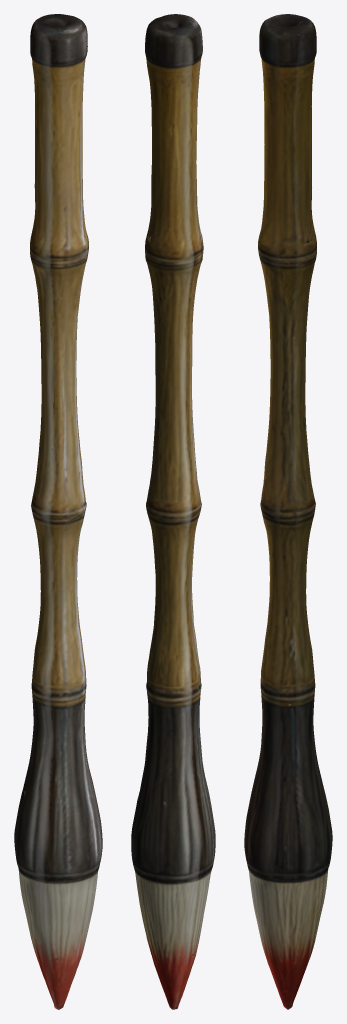
The model's file is Pen.fbx.
3 renders of one model, left to right at view 1: azimuth 90°, elevation 25°; view 2: azimuth 150°, elevation 25°; view 3: azimuth 270°, elevation 25°, orthographic.
Parts seen in each view (by area): view 1: material_0; view 2: material_0; view 3: material_0.
Boxes of the visible parts, bbox=[...] form: material_0: bbox=[14, 14, 102, 1009]; material_0: bbox=[131, 14, 215, 1009]; material_0: bbox=[244, 14, 332, 1009].
Bounding box in the file's own units: 7.57 × 100 × 8.11.
1 material, 1 textured.
